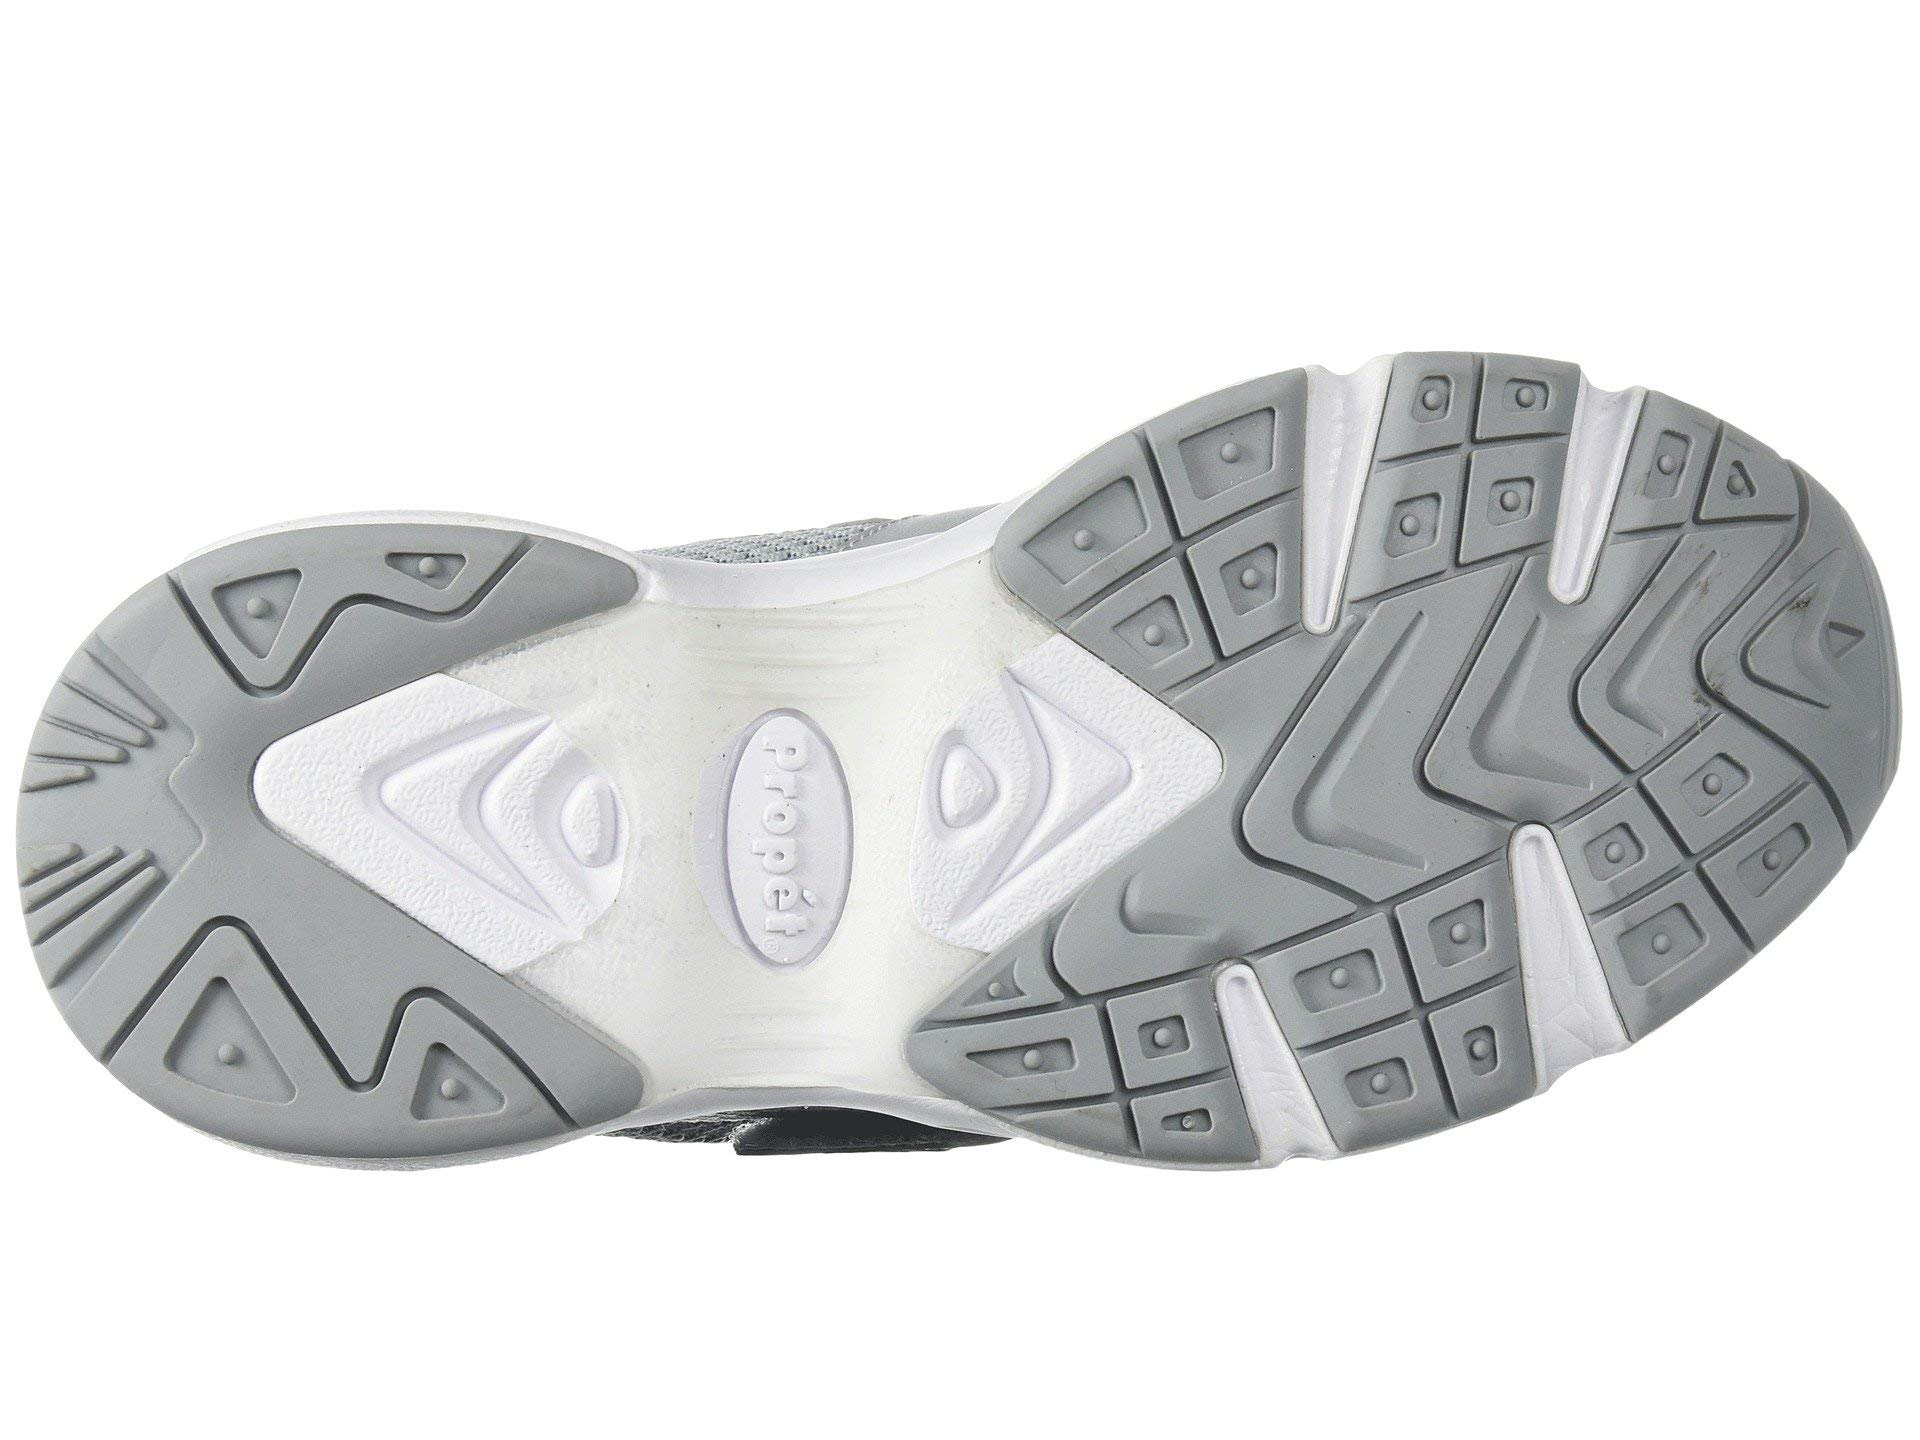chevron: (1223, 584, 1668, 797)
circle: (670, 684, 866, 970), (943, 1019, 1231, 1165), (1383, 346, 1569, 552), (194, 549, 346, 700)
line: (1223, 584, 1668, 797), (1383, 346, 1569, 552), (194, 549, 346, 700)
quad: (943, 1019, 1231, 1165), (1383, 346, 1569, 552)
text: (670, 684, 866, 970)
triangle: (943, 1019, 1231, 1165), (194, 549, 346, 700), (1826, 587, 1879, 685)
